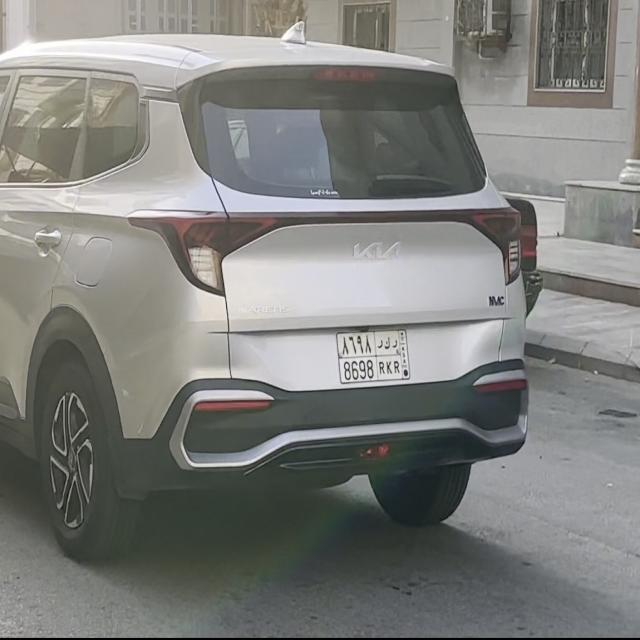Car-plate: (333, 325, 426, 390)
